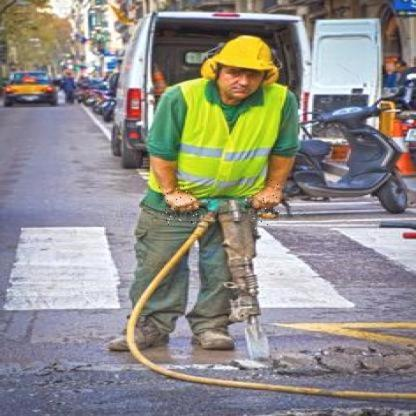bota: (107, 300, 174, 352), (184, 298, 236, 348)
capacete: (200, 34, 278, 99)
